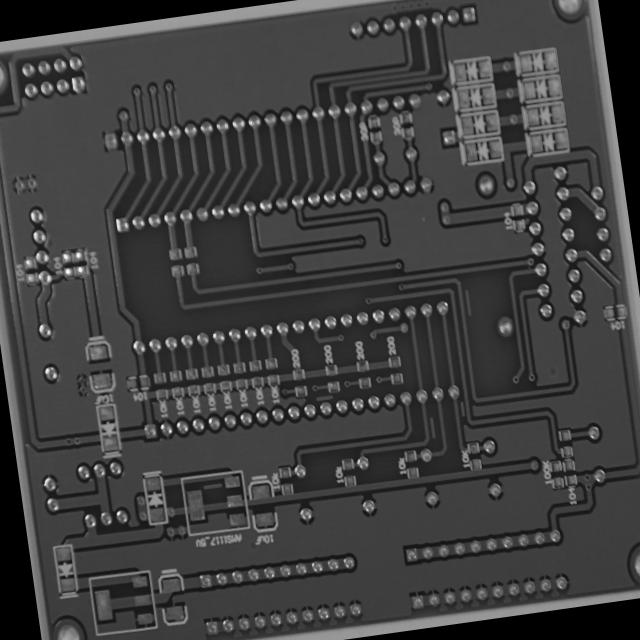spurious_copper: (200, 473, 226, 498), (459, 286, 478, 320), (424, 413, 441, 443), (312, 387, 336, 408), (456, 396, 469, 421)
